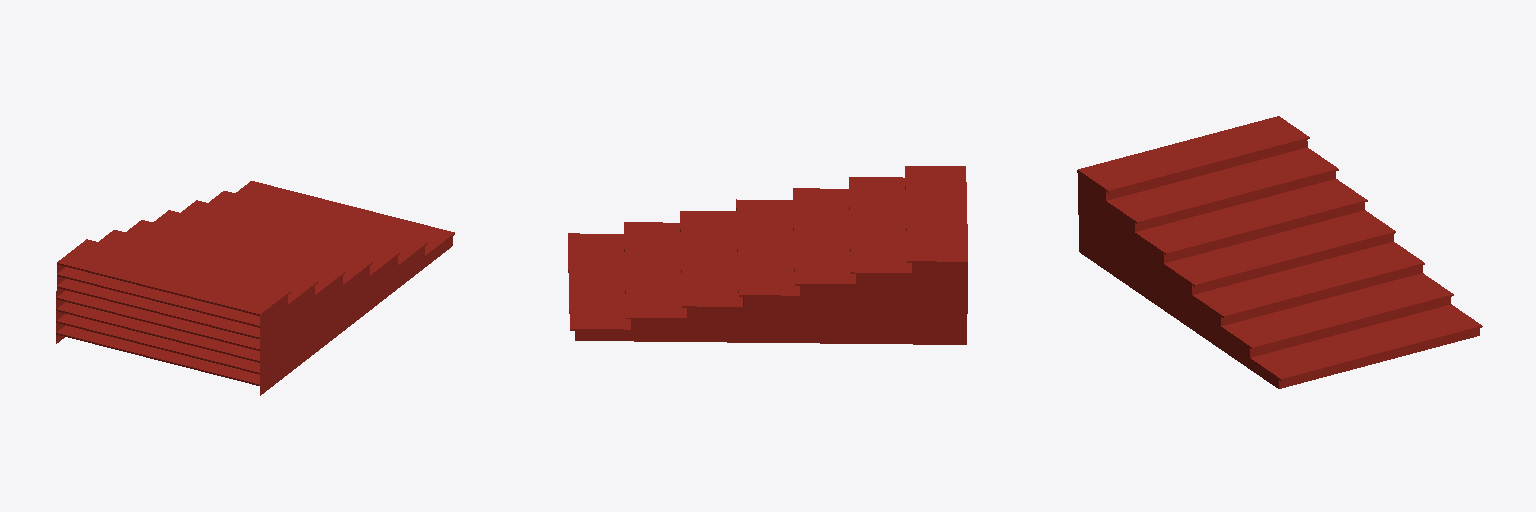
The model's file is xyz1.obj.
3 renders of one model, left to right at view 1: azimuth 30°, elevation 25°; view 2: azimuth 150°, elevation 25°; view 3: azimuth 270°, elevation 25°, orthographic.
Visible parts, largest first — view 1: Stairs_Stairs.004; view 2: Stairs_Stairs.004; view 3: Stairs_Stairs.004.
Part boxes in pixels (x1,y1,x2,y2): Stairs_Stairs.004: (56,181,454,395); Stairs_Stairs.004: (568,166,967,344); Stairs_Stairs.004: (1077,116,1482,388).
Size of the model in its own units: 4.6 by 0.9543 by 4.03.